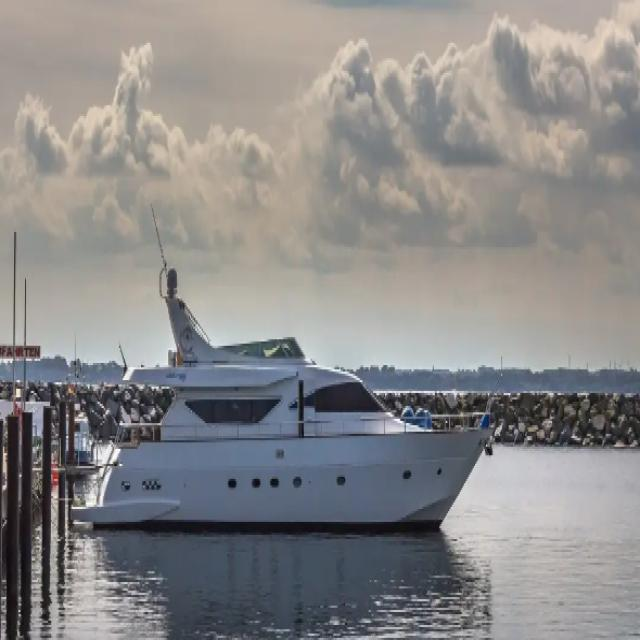houseboat: (76, 263, 500, 546)
